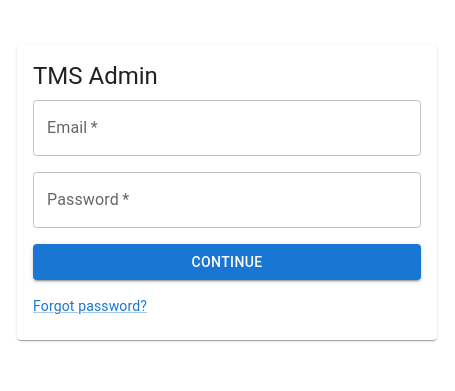
it: Admin LoginPage › reports a rejected password without advancing
Type "admin@tms.local" into the field labelled "Email *" at (227, 128), box [33,100,421,156]
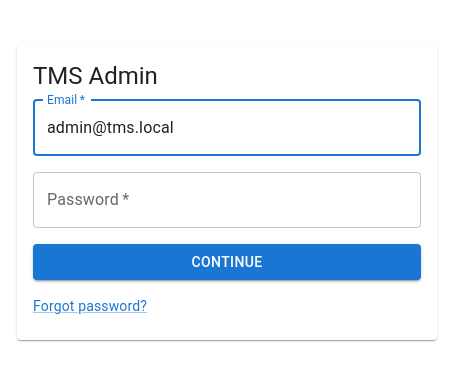
Type "wrong password here" into the password field labelled "Password *" at (227, 200), box [33,172,421,228]
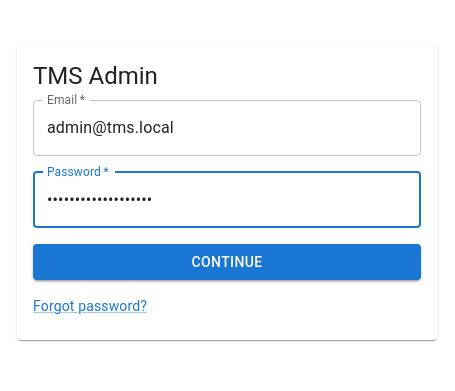
Click the button "Continue" at (227, 262), box [33,244,421,280]
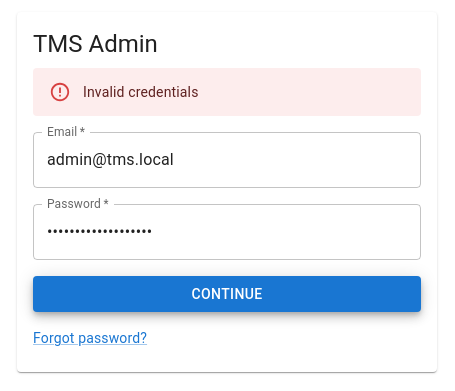
Check: the message reads "Invalid credentials", box [83,84,198,100]
